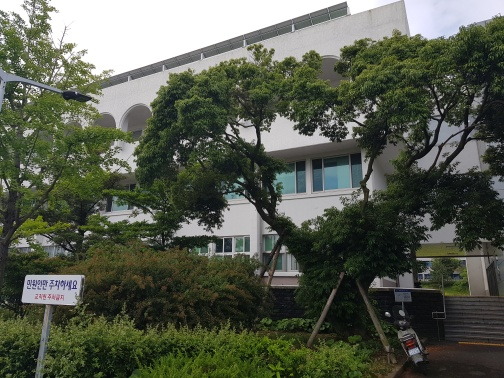Main Building of University: (77, 6, 504, 293)
